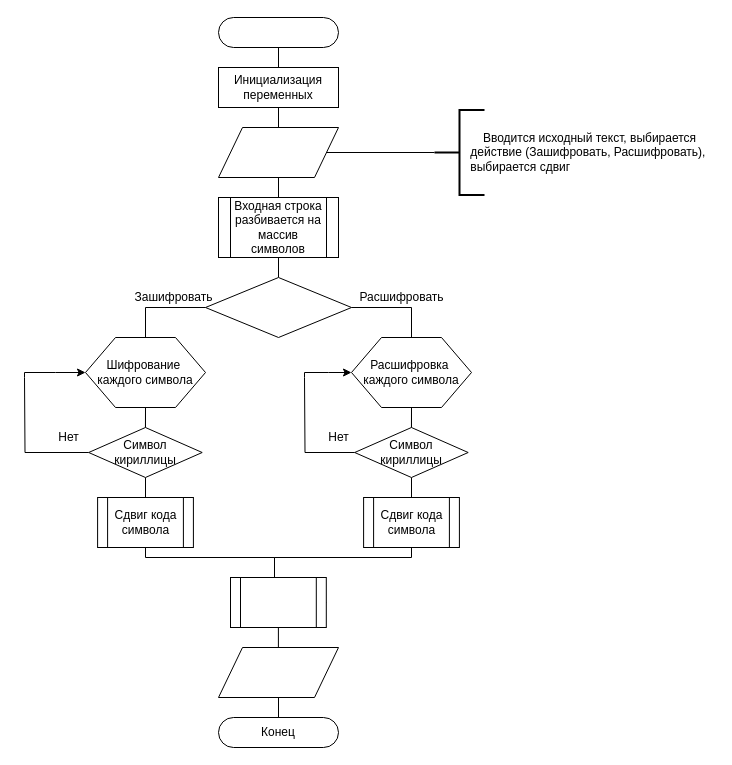
This 732x765 diagram has some shape labels left out. Each missing label, with the centre of its shape:
"Ввод исходного данных" goes at pixel 278 152.
"Вывод результата" goes at pixel 278 672.
"Запись результата в одну строку" goes at pixel 278 602.
"Какое действие выполняется" goes at pixel 278 307.
"Начало" goes at pixel 278 32.
